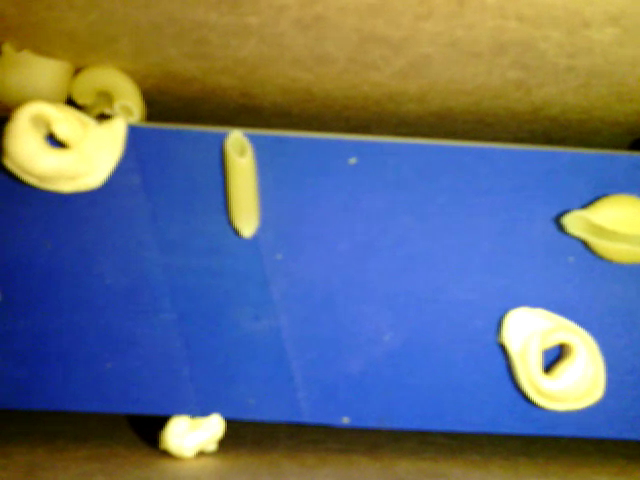elbow: (69, 63, 141, 120)
penne: (223, 128, 258, 237)
shell: (559, 192, 639, 263), (1, 44, 71, 109), (83, 92, 146, 122)
tortellini: (3, 101, 128, 191), (499, 305, 605, 410)
